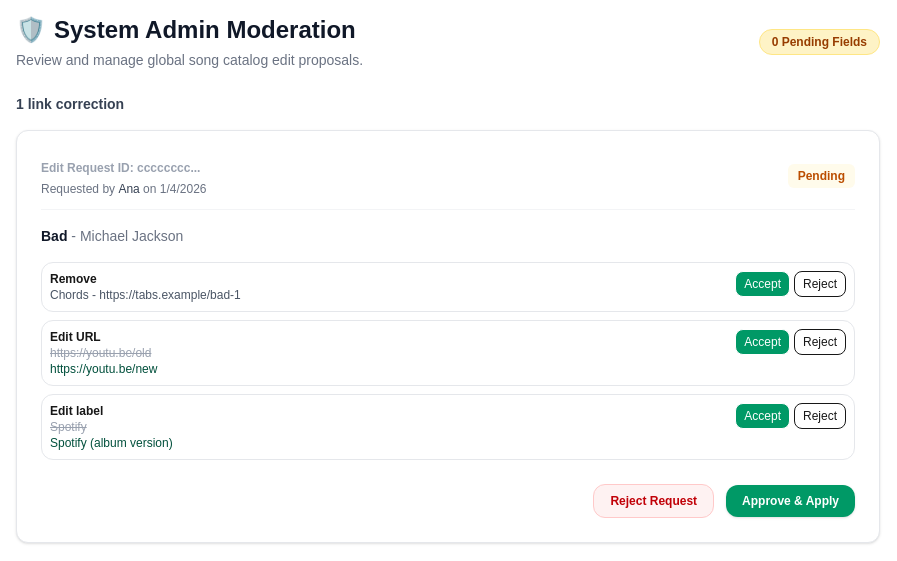
ModerationQueue link-row verdicts › approves the card with every link accepted by default, and drops it
The image size is (897, 561).
Click the button "Approve & Apply".
click(791, 501)  # box left=726, top=485, right=855, bottom=517
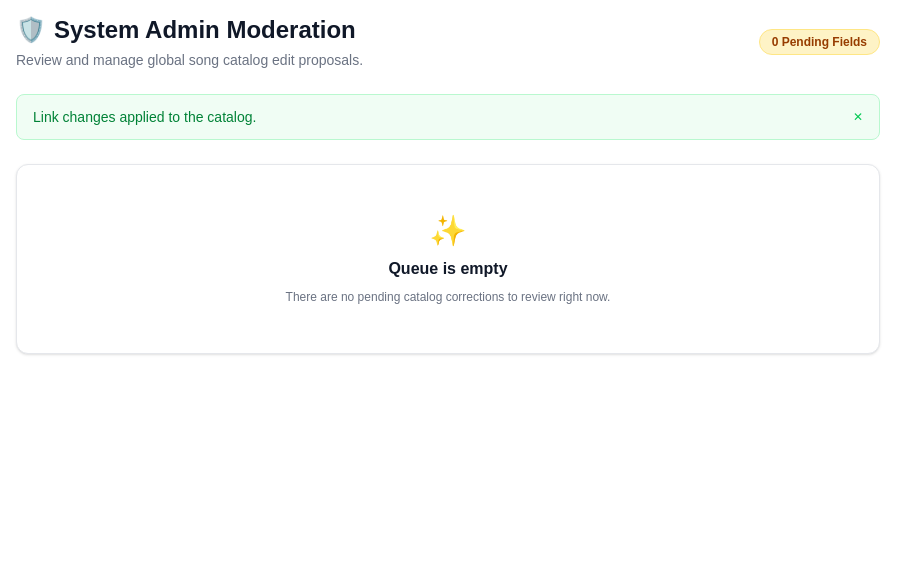
Expected: the text "Link changes applied to the catalog." is shown, left=33, top=107, right=256, bottom=127
Expected: the heading "Queue is empty" is shown, left=388, top=260, right=508, bottom=277
